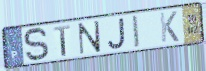I: (131, 14, 142, 50)
J: (106, 17, 127, 51)
K: (158, 10, 181, 44)
N: (77, 20, 102, 56)
S: (22, 26, 51, 64)
T: (52, 24, 72, 57)
